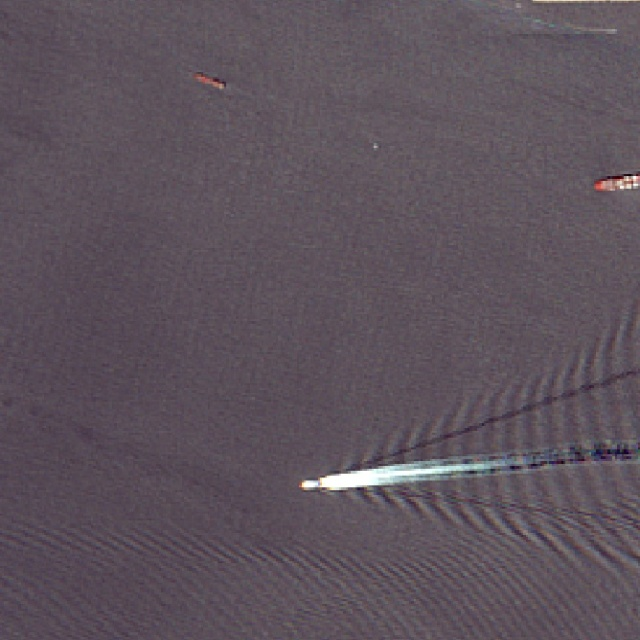wake: (291, 391, 565, 550)
